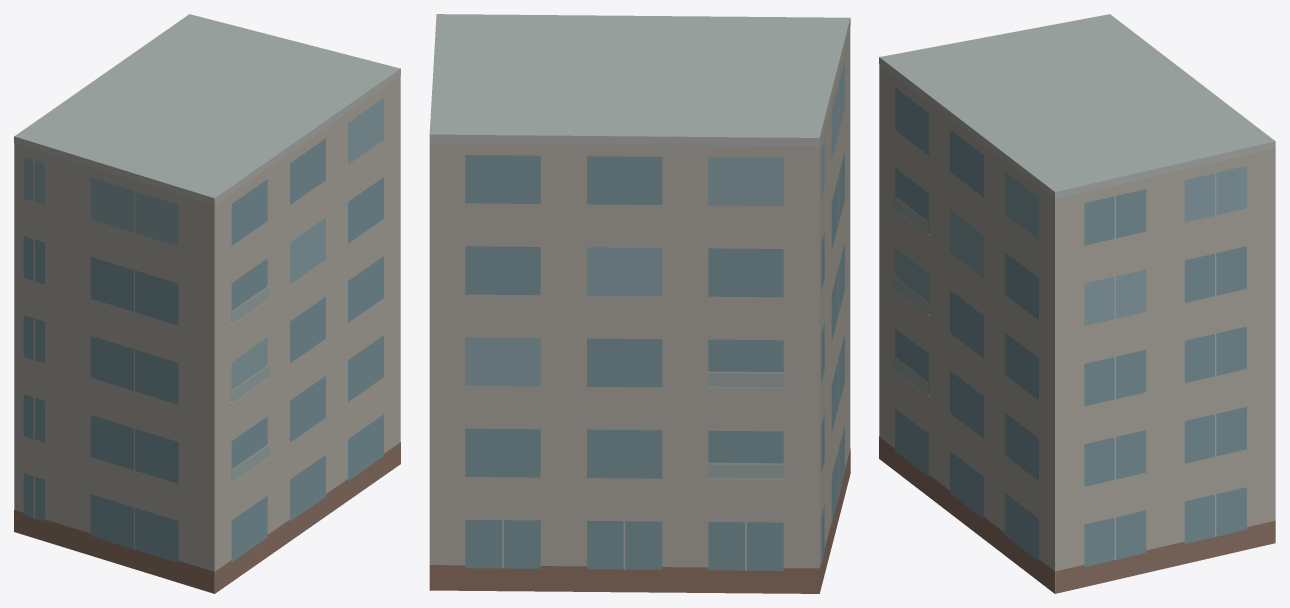
File: survey-upis-32757462.glb
3 renders of one model, left to right at view 1: azimuth 30°, elevation 25°; view 2: azimuth 150°, elevation 25°; view 3: azimuth 270°, elevation 25°, orthographic. The views are drawn at different scales.
Visible parts, largest first — view 1: survey-upis-32757462.tmp; view 2: survey-upis-32757462.tmp; view 3: survey-upis-32757462.tmp.
Part boxes in pixels (x1=…): survey-upis-32757462.tmp: x1=14, y1=14, x2=400, y2=593; survey-upis-32757462.tmp: x1=429, y1=14, x2=850, y2=593; survey-upis-32757462.tmp: x1=879, y1=14, x2=1275, y2=593.
Bounding box in the file's own units: 13.08 × 13.75 × 12.31.
